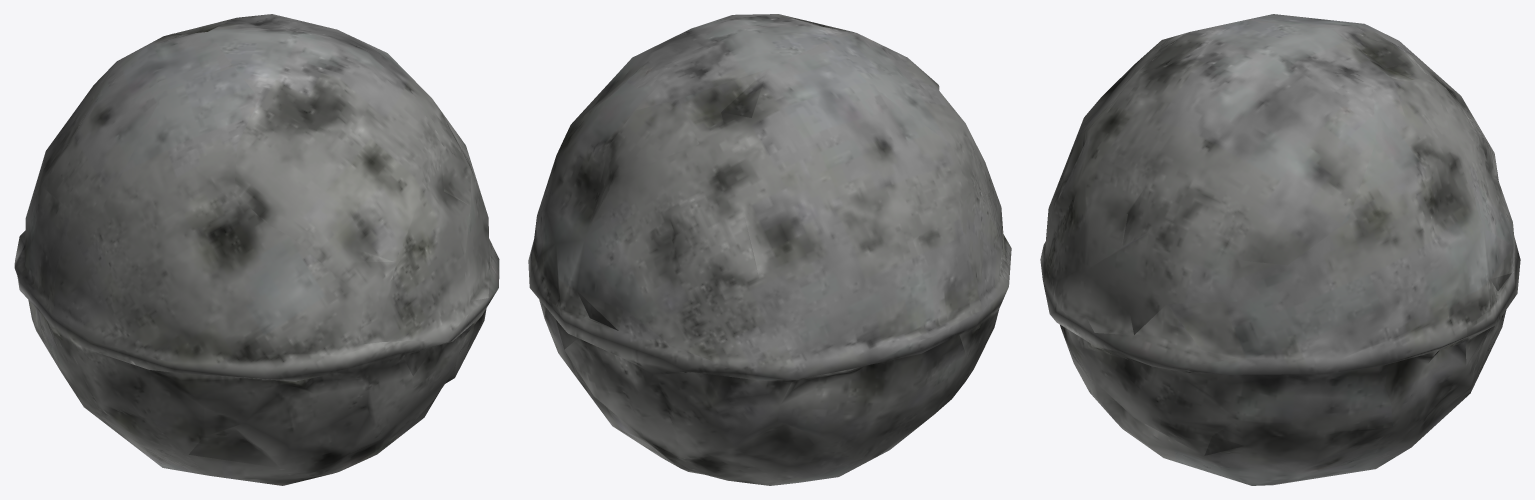
3 renders of one model, left to right at view 1: azimuth 30°, elevation 25°; view 2: azimuth 150°, elevation 25°; view 3: azimuth 270°, elevation 25°, orthographic.
Visible parts, largest first — view 1: Mesh_0; view 2: Mesh_0; view 3: Mesh_0.
Part boxes in pixels (x1,y1,x2,y2): Mesh_0: [14, 14, 499, 485]; Mesh_0: [528, 14, 1011, 485]; Mesh_0: [1040, 14, 1520, 485].
Size of the model in its own units: 3553565 by 3450252 by 3516289.
Materials: 1 (1 with a texture image).
